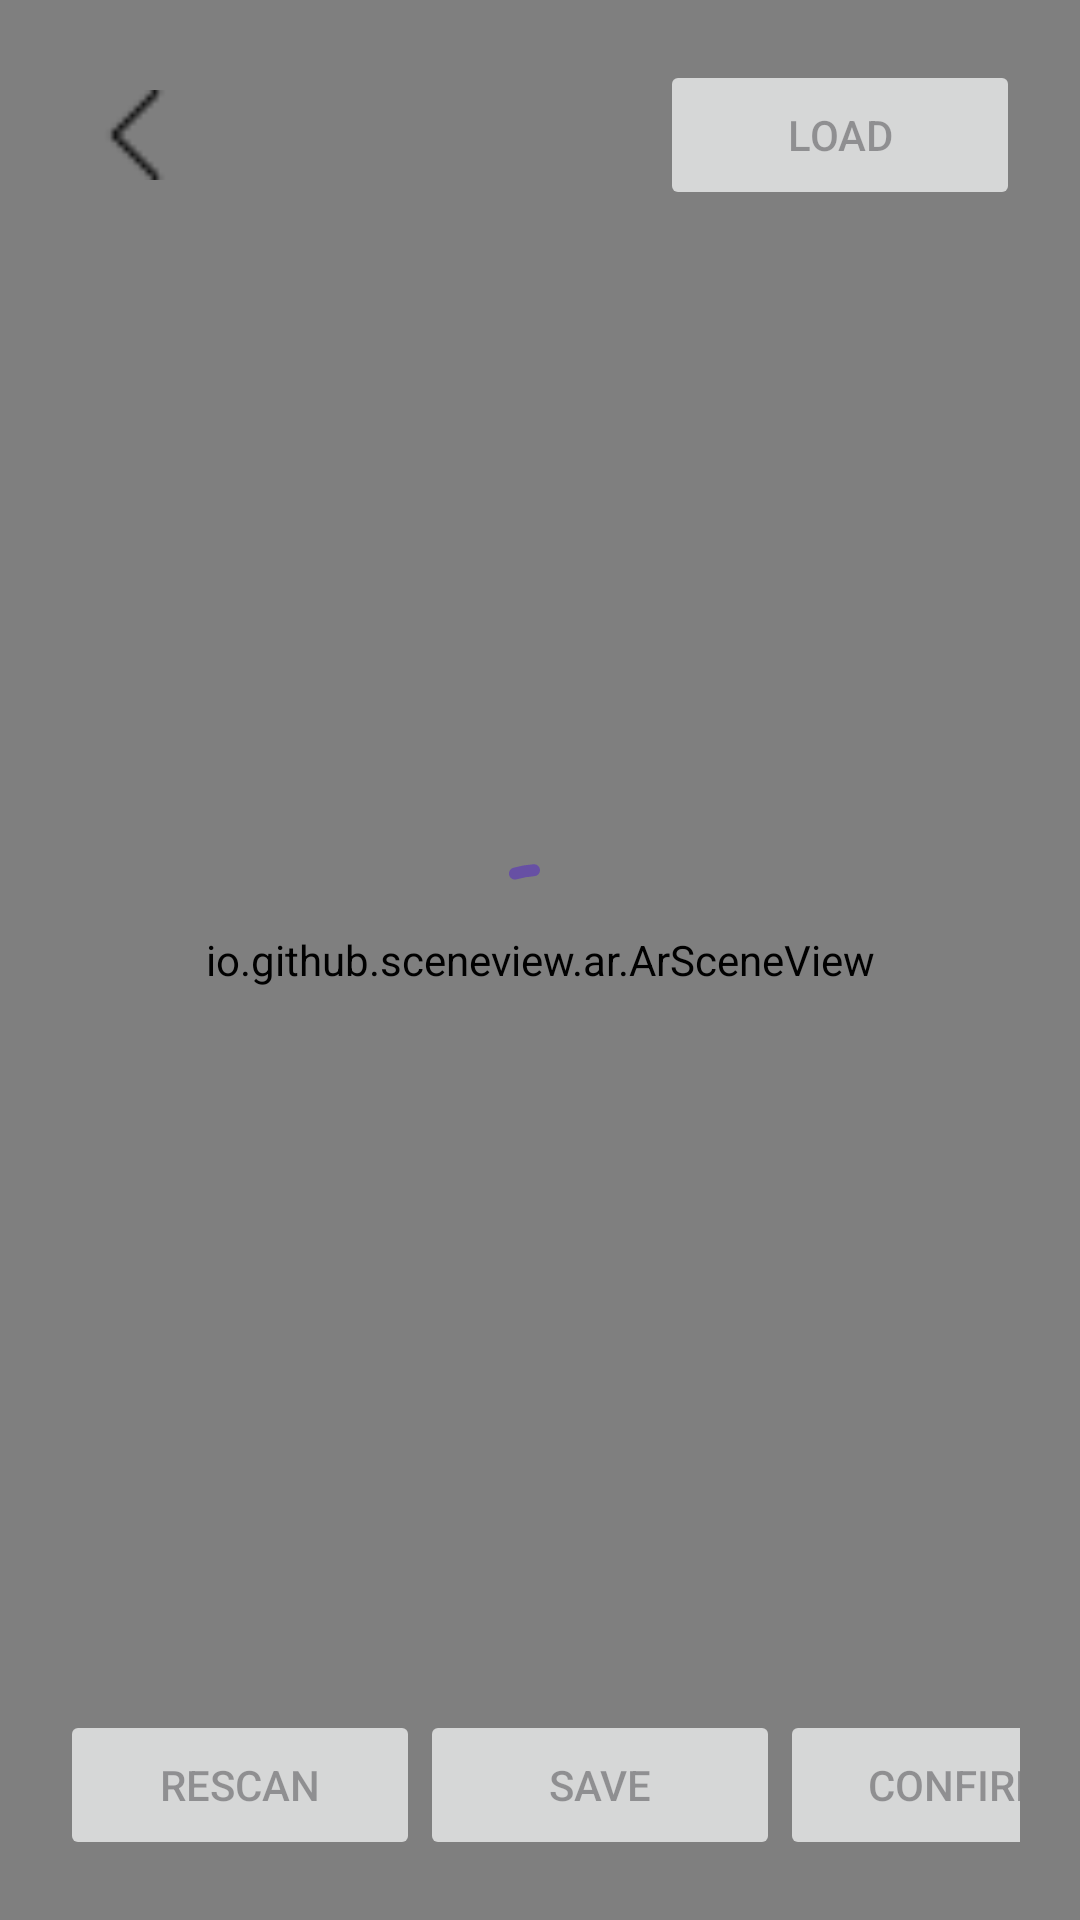

Where icons sit on this 1080 × 1920 app screen, as (x1, y1, x2, y2):
back: (111, 90, 160, 180)
